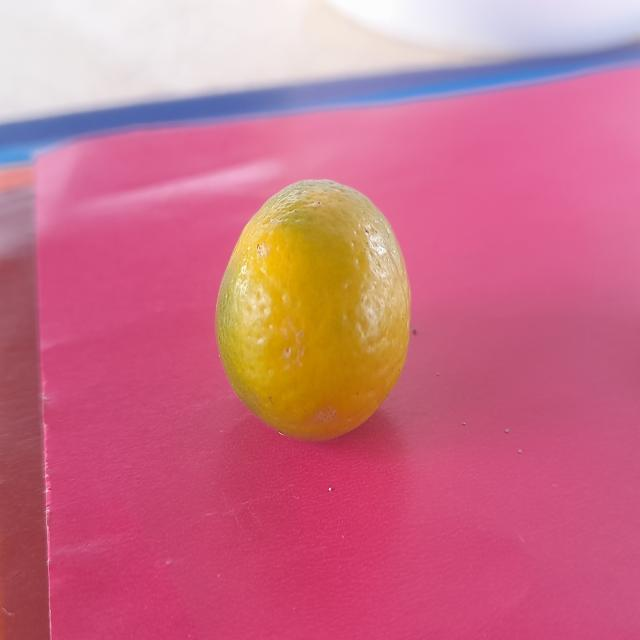greening: (216, 173, 410, 450)
